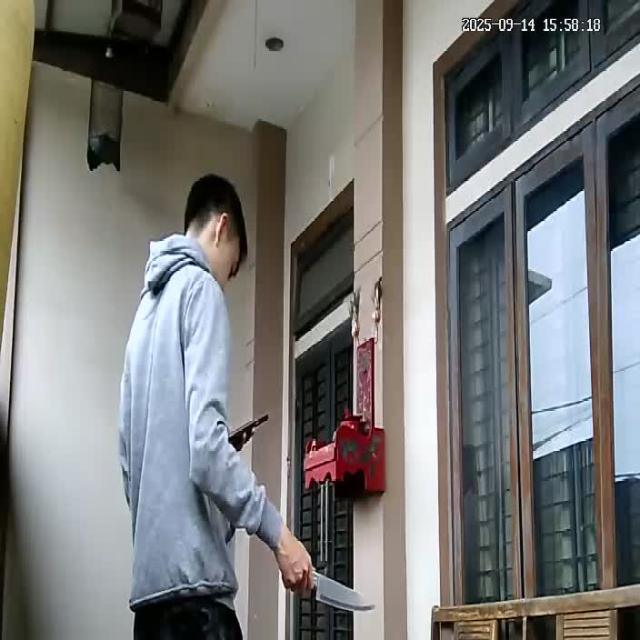senjata_tajam: (314, 571, 376, 615)
